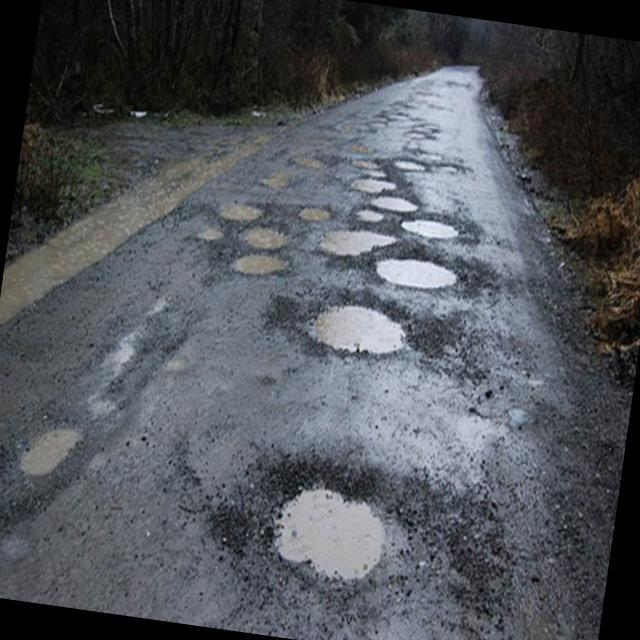Pothole: (250, 460, 394, 604), (307, 286, 408, 371), (384, 251, 459, 295), (319, 220, 383, 262), (236, 225, 282, 282), (409, 209, 464, 244), (222, 193, 260, 226), (299, 198, 336, 228), (378, 193, 416, 215)
